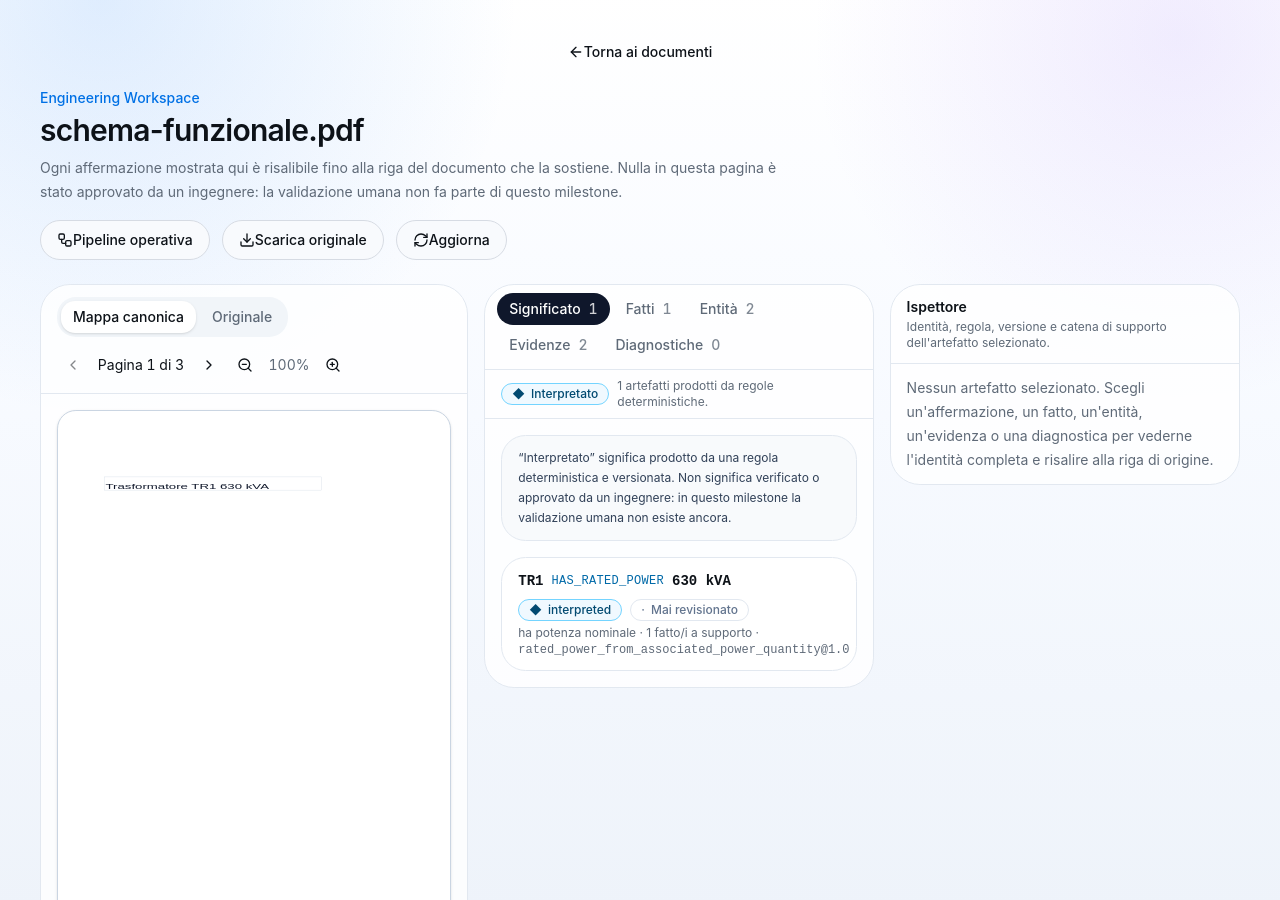
Test: the engineering-editing boundary › keeps a structural association from reading as a rated value
Expected: the heading "schema-funzionale.pdf" is shown, [40, 112, 364, 148]
Click the tab "Fatti 1". click: (649, 309)
box: [614, 293, 684, 325]
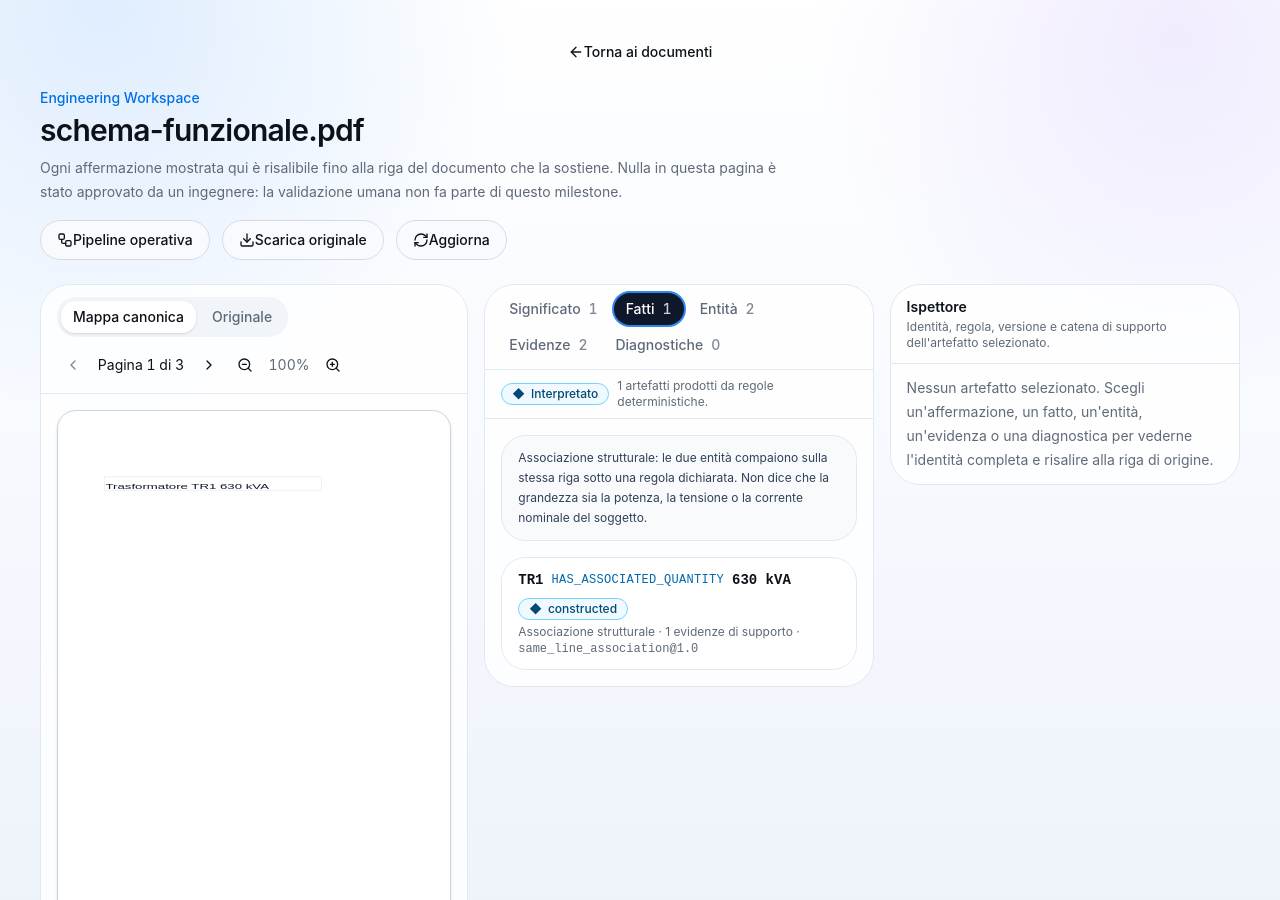
Expected: the text "Non dice che la grandezza sia la potenza" is shown, [518, 450, 829, 525]
